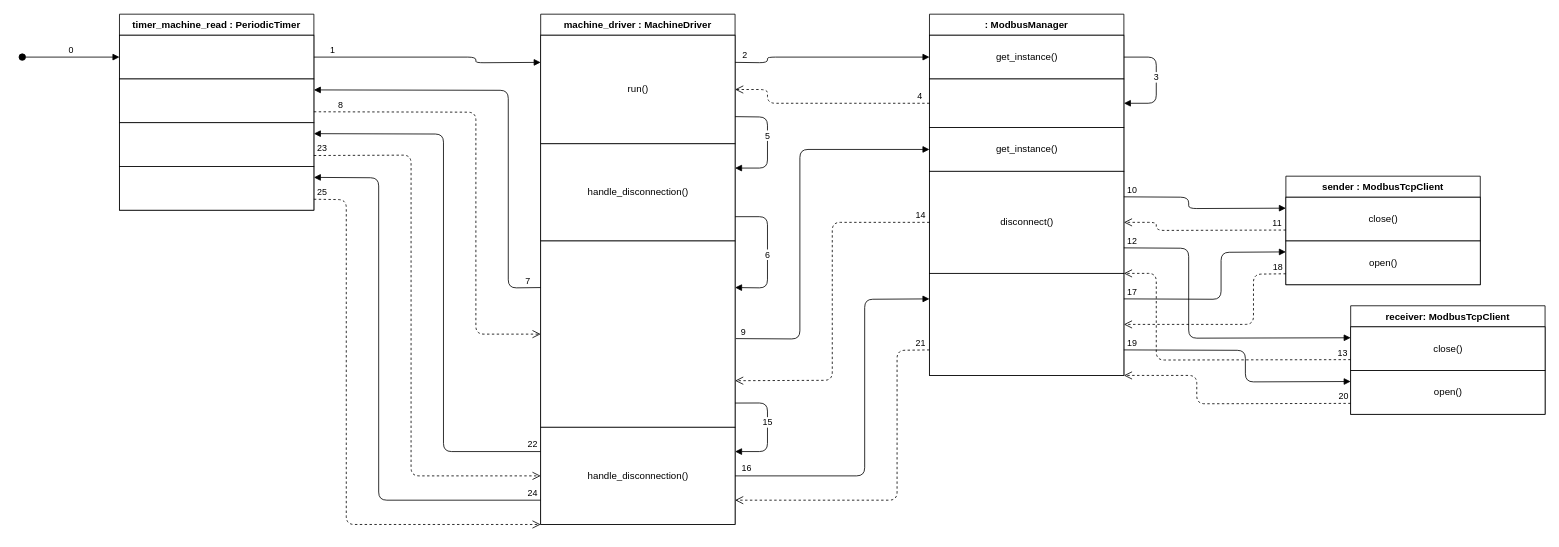
Image size: 1559x547. Some labels were removed from this diagram. Each missing label, with the centre of its shape:
"__init()" goes at (x=216, y=144).
"connect()" goes at (x=1026, y=324).
"kill()" goes at (x=216, y=100).
"pause_when_disconnected()" goes at (x=637, y=333).
"read_rr()" goes at (x=1026, y=103).
"start()" goes at (x=216, y=188).
"tick()" goes at (x=216, y=56).
